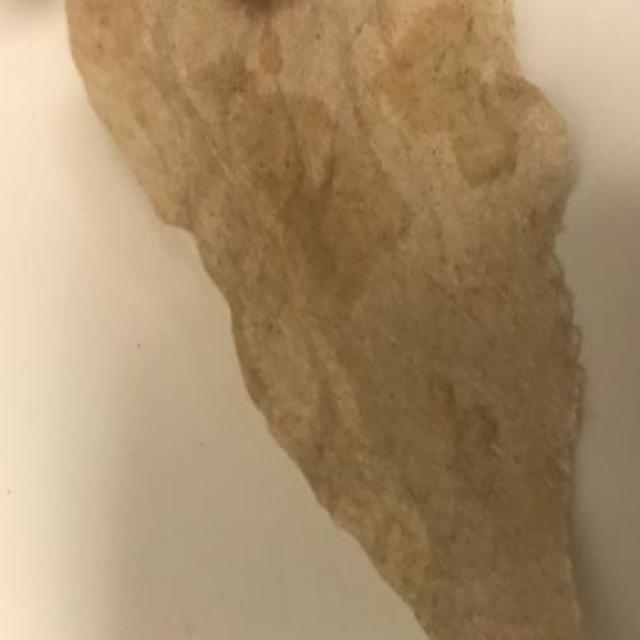giay: (67, 0, 583, 640)
